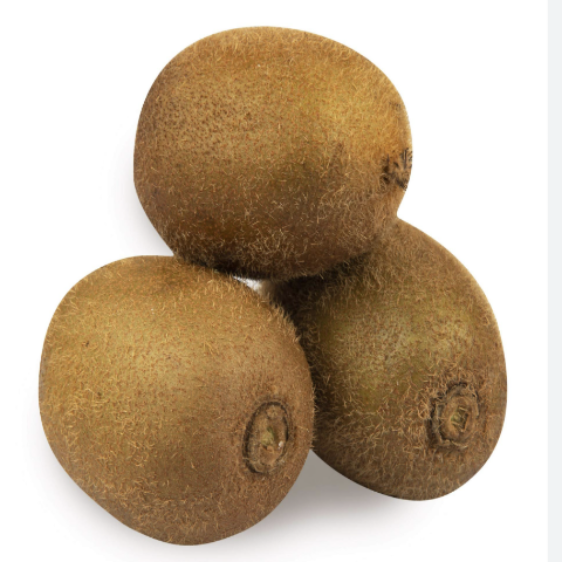kiwi: (22, 234, 342, 555), (106, 12, 417, 287), (248, 219, 496, 533)
